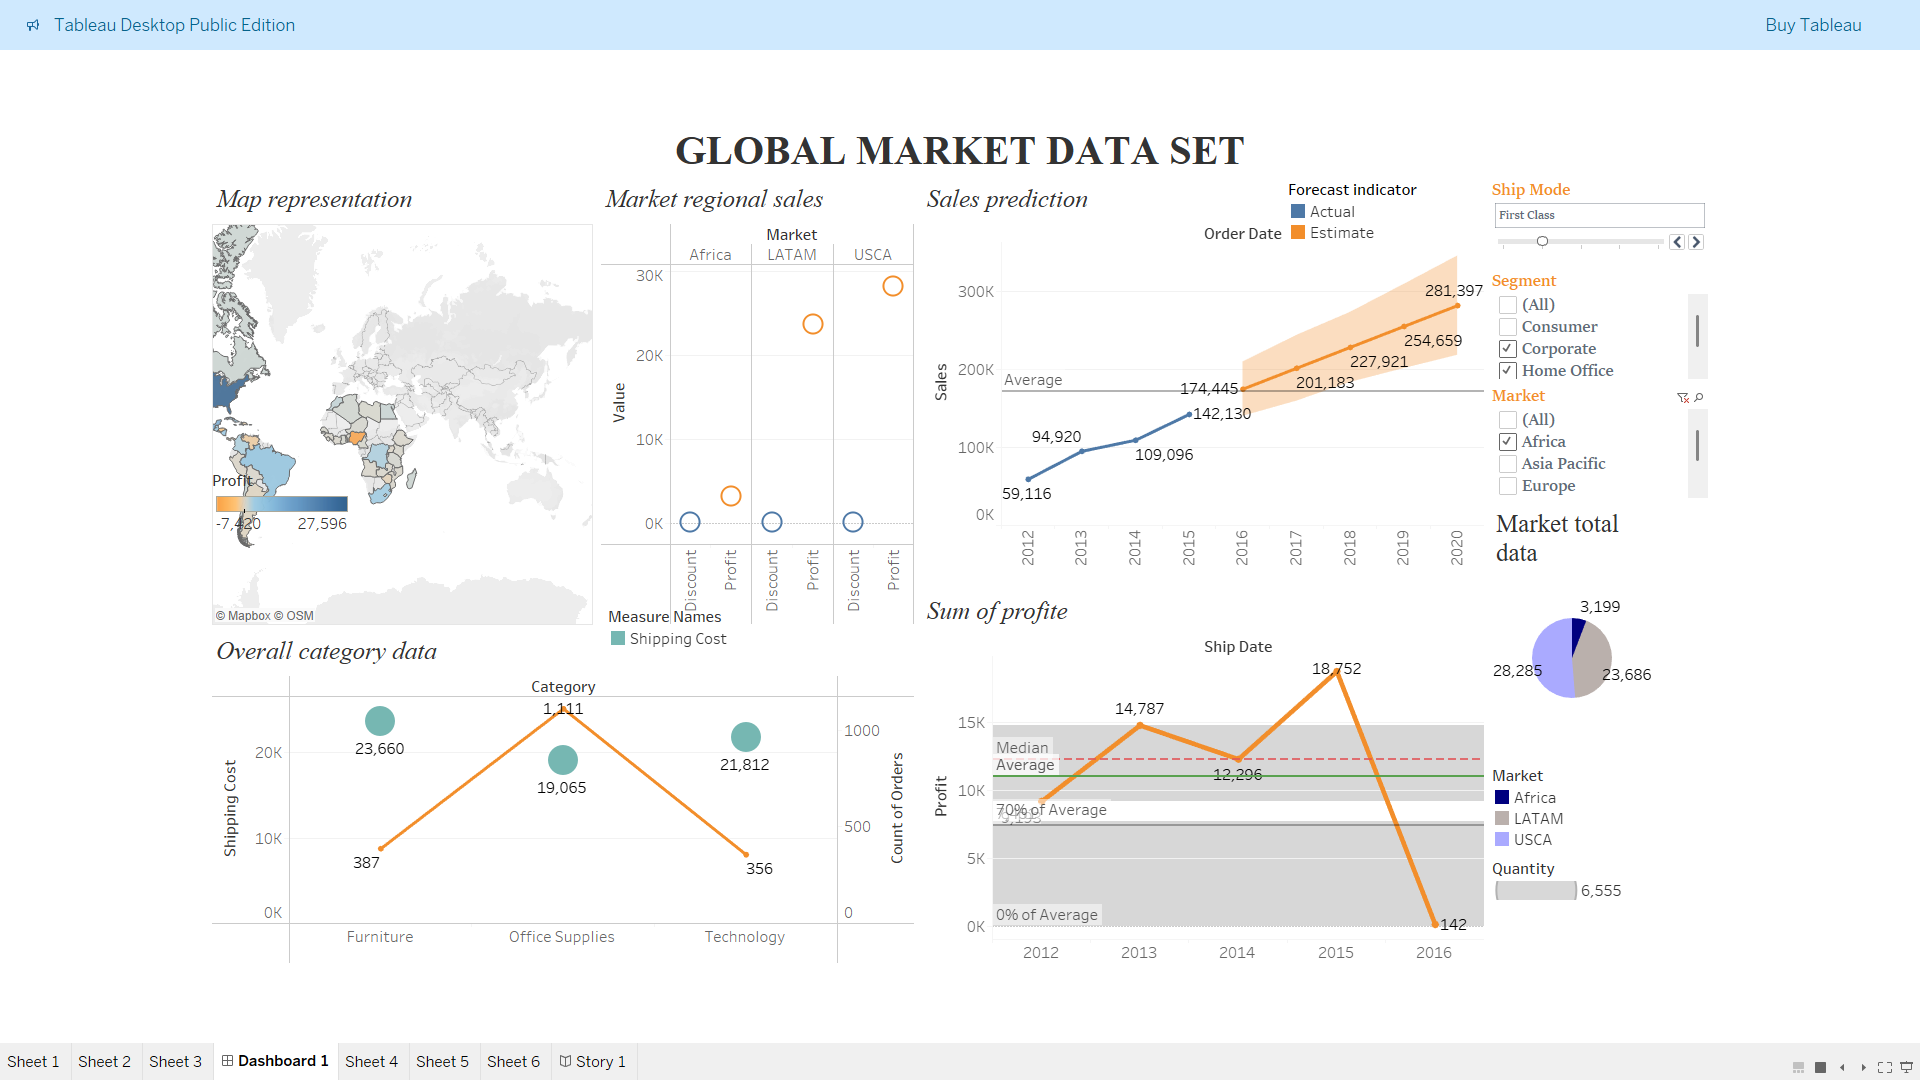

The dashboard page shown, as its layout file describes it:
{"tool":"tableau","page":{"name":"Dashboard 1","canvas":[1000,1000],"units":"permille","ordinal":0},"visuals":[{"type":"title","box":[5.3,10,989.5,66.1]},{"type":"legend","title":"Sheet 2","param":"[federated.1nj6qd210zfpyo1dzl5g90oos3fo].[none:Forecast Indicator:nk]","box":[715.8,73.6,88.8,89.8]},{"type":"worksheet","title":"Sheet 3","mark":"Automatic","box":[5.3,76.1,255.6,522.4]},{"type":"worksheet","title":"Sheet 4","mark":"Shape","cols":["Market"],"box":[260.9,76.1,212.2,522.4]},{"type":"worksheet","title":"Sheet 2","mark":"Automatic","rows":["Sales"],"cols":["Order Date"],"box":[473,76.1,374.3,477.6]},{"type":"filter","title":"Sheet 1","param":"[federated.1nj6qd210zfpyo1dzl5g90oos3fo].[none:Ship Mode:nk]","box":[847.4,76.1,147.4,113.5]},{"type":"filter","title":"Sheet 1","param":"[federated.1nj6qd210zfpyo1dzl5g90oos3fo].[none:Segment:nk]","box":[847.4,189.5,147.4,143.4]},{"type":"filter","title":"Sheet 1","param":"[federated.1nj6qd210zfpyo1dzl5g90oos3fo].[none:Market:nk]","box":[847.4,332.9,147.4,148.4]},{"type":"legend","title":"Sheet 3","param":"[federated.1nj6qd210zfpyo1dzl5g90oos3fo].[sum:Profit:qk]","box":[7.9,411.5,92.1,109.7]},{"type":"worksheet","title":"Sheet 6","mark":"Pie","box":[847.4,481.3,147.4,322.9]},{"type":"worksheet","title":"Sheet 1","mark":"Automatic","rows":["Profit"],"cols":["Ship Date"],"box":[473,553.6,374.3,436.4]},{"type":"legend","title":"Sheet 5","param":"[federated.1nj6qd210zfpyo1dzl5g90oos3fo].[:Measure Names]","box":[268.4,569.8,92.1,53.6]},{"type":"worksheet","title":"Sheet 5","mark":"Automatic","rows":["Shipping Cost","Orders_3DD3943F20C242CB870DA2F6CCF628AD"],"cols":["Category"],"box":[5.3,598.5,467.8,391.5]},{"type":"legend","title":"Sheet 6","param":"[federated.1nj6qd210zfpyo1dzl5g90oos3fo].[none:Market:nk]","box":[847.4,804.3,147.4,122.2]},{"type":"legend","title":"Sheet 6","param":"[federated.1nj6qd210zfpyo1dzl5g90oos3fo].[sum:Quantity:qk]","box":[847.4,926.4,147.4,63.6]}]}

Visuals, with their boxes on the dashboard's canvas, which has no fixed pixel size, in thousandths of its width and height (x1, y1, x2, y2). These are canvas units, not pixel positions in the 1920x1080 screenshot, which may show the page scaled, cropped or inside an application window:
title: [5, 10, 995, 76]
"Sheet 2" legend: [716, 74, 805, 163]
"Sheet 3" worksheet: [5, 76, 261, 598]
"Sheet 4" worksheet (Shape marks): [261, 76, 473, 598]
"Sheet 2" worksheet: [473, 76, 847, 554]
"Sheet 1" filter: [847, 76, 995, 190]
"Sheet 1" filter: [847, 190, 995, 333]
"Sheet 1" filter: [847, 333, 995, 481]
"Sheet 3" legend: [8, 412, 100, 521]
"Sheet 6" worksheet (Pie marks): [847, 481, 995, 804]
"Sheet 1" worksheet: [473, 554, 847, 990]
"Sheet 5" legend: [268, 570, 360, 623]
"Sheet 5" worksheet: [5, 598, 473, 990]
"Sheet 6" legend: [847, 804, 995, 926]
"Sheet 6" legend: [847, 926, 995, 990]
